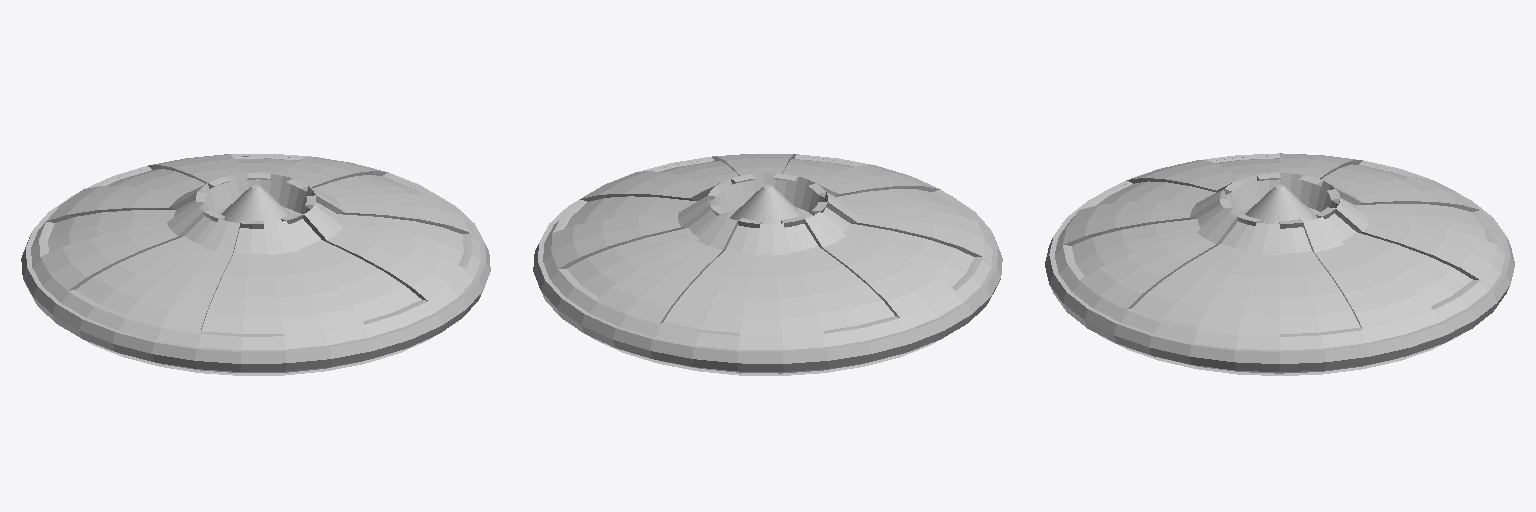
The model's file is uploads_files_3772793_AIRCRAFT.obj.
The picture shows the model from 3 angles: view 1: azimuth 30°, elevation 25°; view 2: azimuth 150°, elevation 25°; view 3: azimuth 270°, elevation 25°; orthographic projection.
Parts seen in each view (by area): view 1: BODY_Sphere, B_LIGHT_Sphere.001; view 2: BODY_Sphere, B_LIGHT_Sphere.001; view 3: BODY_Sphere, B_LIGHT_Sphere.001.
Part boxes in pixels (bbox=[...]): BODY_Sphere: bbox=[21, 154, 490, 375]; B_LIGHT_Sphere.001: bbox=[40, 169, 466, 372]; BODY_Sphere: bbox=[533, 154, 1002, 375]; B_LIGHT_Sphere.001: bbox=[551, 159, 984, 372]; BODY_Sphere: bbox=[1045, 153, 1514, 375]; B_LIGHT_Sphere.001: bbox=[1063, 158, 1496, 373].
Size of the model in its own units: 2 by 0.6548 by 2.